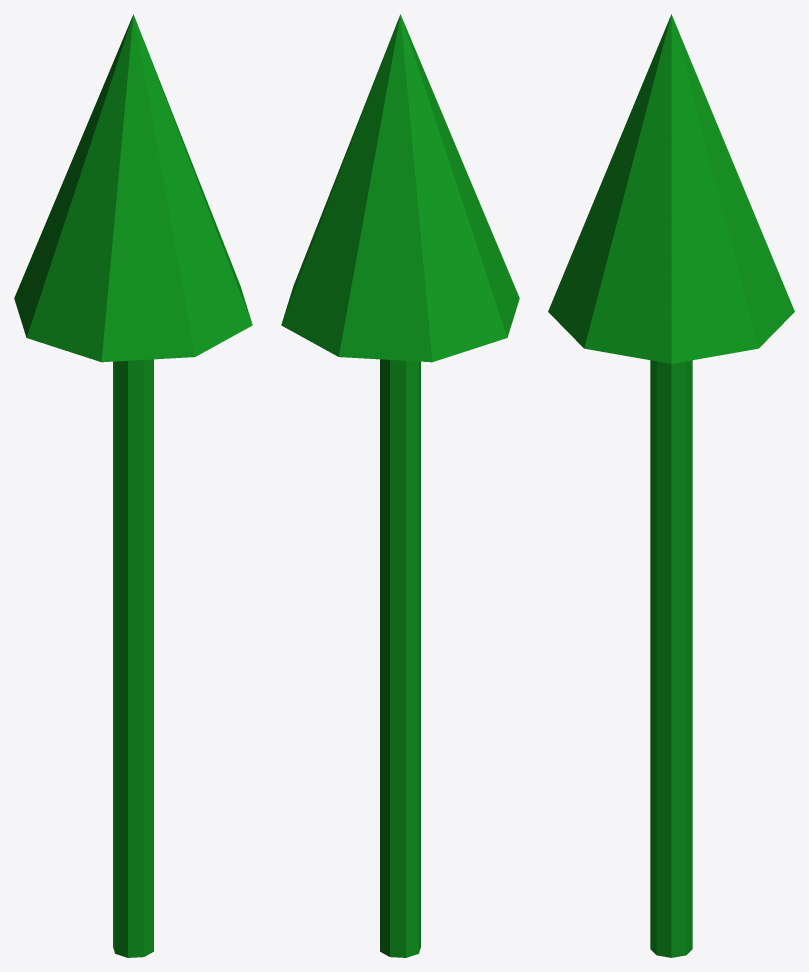
File: arrow-green.gltf
The picture shows the model from 3 angles, left to right: view 1: azimuth 30°, elevation 25°; view 2: azimuth 150°, elevation 25°; view 3: azimuth 270°, elevation 25°; orthographic projection.
Visible parts, largest first — view 1: Cylinder; view 2: Cylinder; view 3: Cylinder.
Boxes of the visible parts, x1=… form: Cylinder: x1=14, y1=14, x2=252, y2=957; Cylinder: x1=281, y1=14, x2=519, y2=957; Cylinder: x1=548, y1=14, x2=794, y2=957.
Bounding box in the file's own units: 0.8031 × 3.35 × 0.8031.
